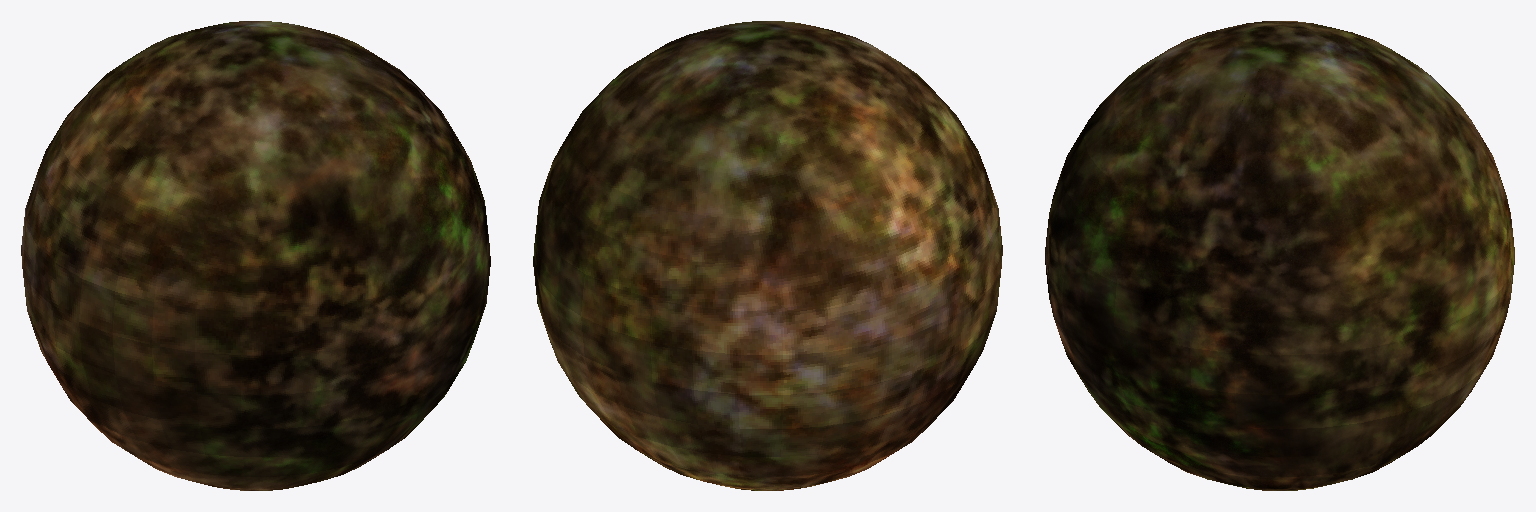
3 views of the same model, side by side, from view 1: azimuth 30°, elevation 25°; view 2: azimuth 150°, elevation 25°; view 3: azimuth 270°, elevation 25° (orthographic).
Parts seen in each view (by area): view 1: Sphere; view 2: Sphere; view 3: Sphere.
Boxes of the visible parts, box(x1,y1,x2,y2) form: Sphere: box(21, 21, 490, 490); Sphere: box(533, 21, 1002, 490); Sphere: box(1045, 21, 1514, 490).
Bounding box in the file's own units: 5.33 × 5.33 × 5.33.
Materials: 1 (1 with a texture image).